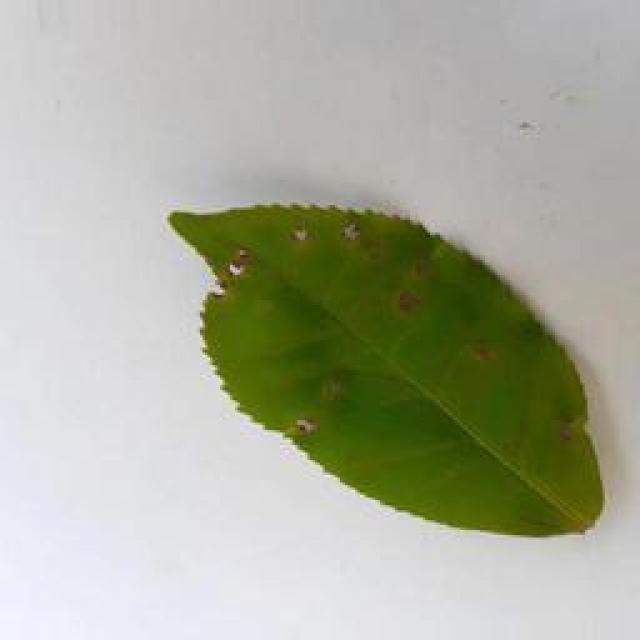Helopeltis: (168, 193, 614, 539)
